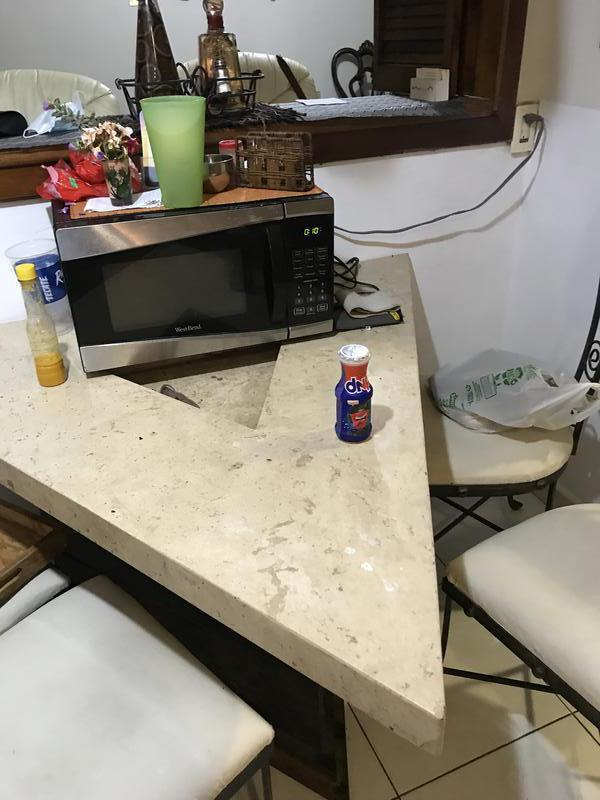danup: (332, 345, 380, 448)
